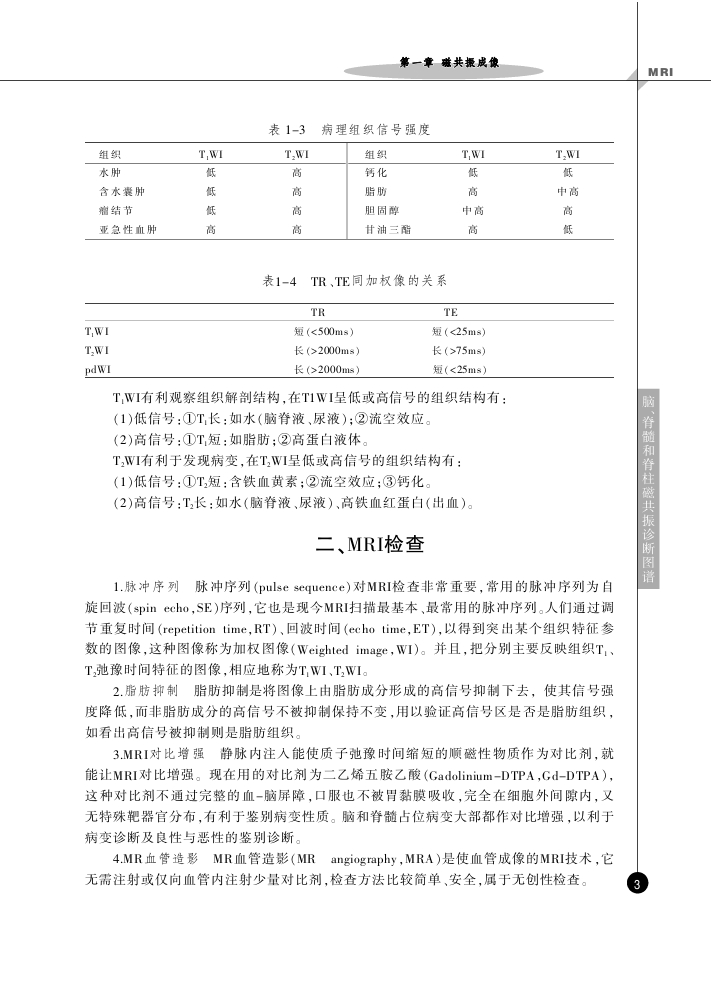table: (85, 142, 614, 240), (85, 303, 614, 378)
